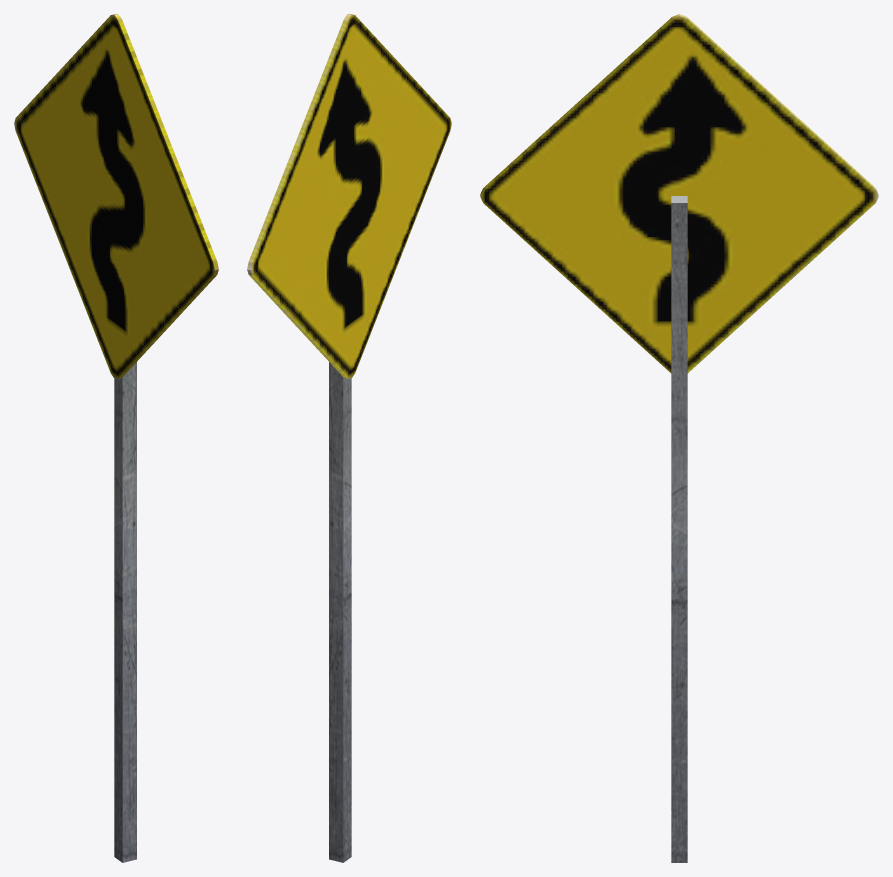
Rendered from sign-winding.fbx.
The picture shows the model from 3 angles, left to right: view 1: azimuth 30°, elevation 25°; view 2: azimuth 150°, elevation 25°; view 3: azimuth 270°, elevation 25°; orthographic projection.
Visible parts, largest first — view 1: Plane.052; view 2: Plane.052; view 3: Plane.052.
Part boxes in pixels (x1,y1,x2,y2): Plane.052: (14,14,218,862); Plane.052: (247,14,451,862); Plane.052: (480,14,878,862).
Size of the model in its own units: 8.77 by 384 by 165.
